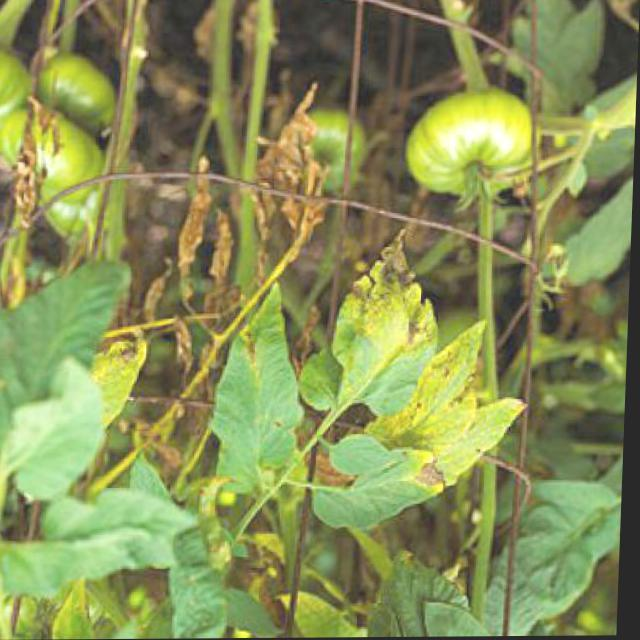Tomato Early blight leaf: (328, 236, 432, 418), (218, 287, 302, 503), (306, 440, 458, 518)
